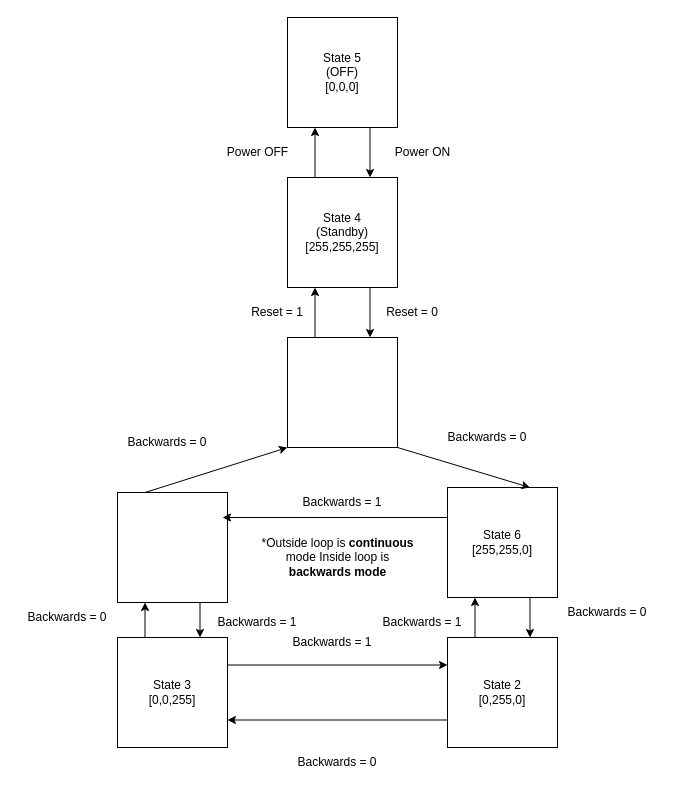
Some shapes in this 674 by 795 pixel diagram are drawn without their labels. Here are the shapes that lost their labels. From the top down, the centre of each, then its label:
At pixel 342 392: "State 1 [255,0,0]".
At pixel 172 547: "State 7 [128,0,128]".
